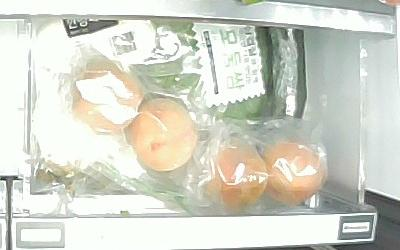peach_vinyl: (70, 61, 144, 134), (133, 98, 198, 173), (202, 139, 269, 208), (267, 143, 327, 205)
